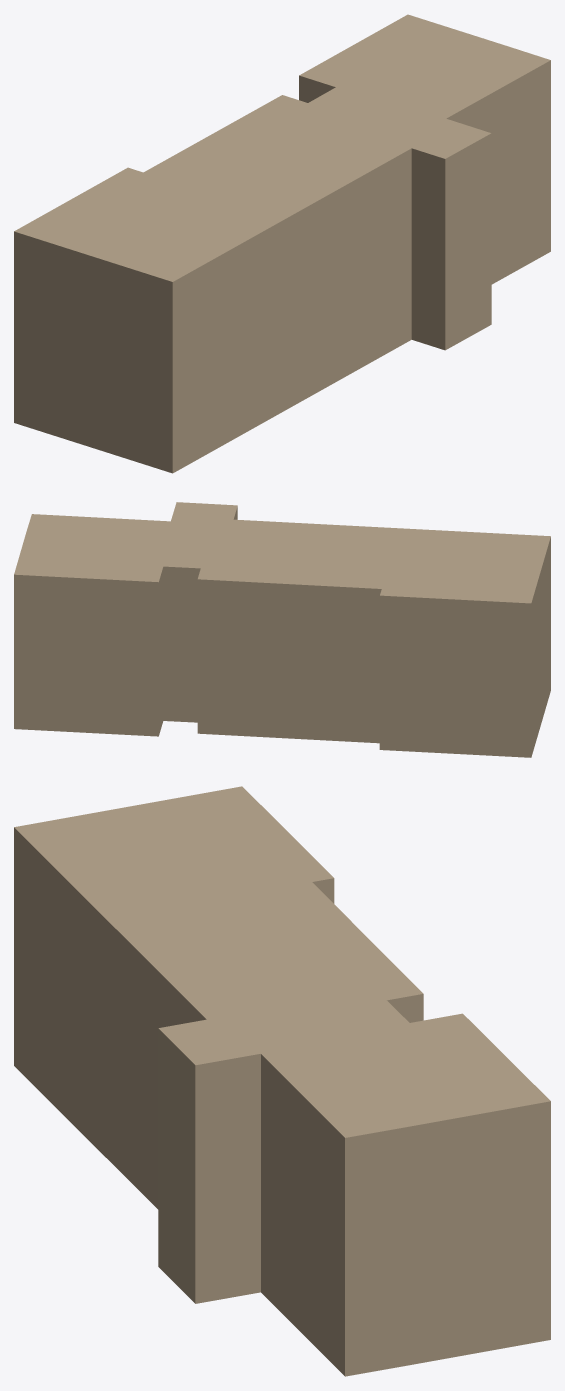
The model's file is bld_106306785.dae.
3 renders of one model, top to bottom at view 1: azimuth 30°, elevation 25°; view 2: azimuth 150°, elevation 25°; view 3: azimuth 270°, elevation 25°, orthographic. The views are drawn at different scales.
Parts seen in each view (by area): view 1: bld_106306785; view 2: bld_106306785; view 3: bld_106306785.
Part boxes in pixels (x1,y1,x2,y2): bld_106306785: [14, 14, 550, 473]; bld_106306785: [14, 502, 550, 757]; bld_106306785: [14, 786, 550, 1376].
Bounding box in the file's own units: 25.28 × 16.32 × 8.
